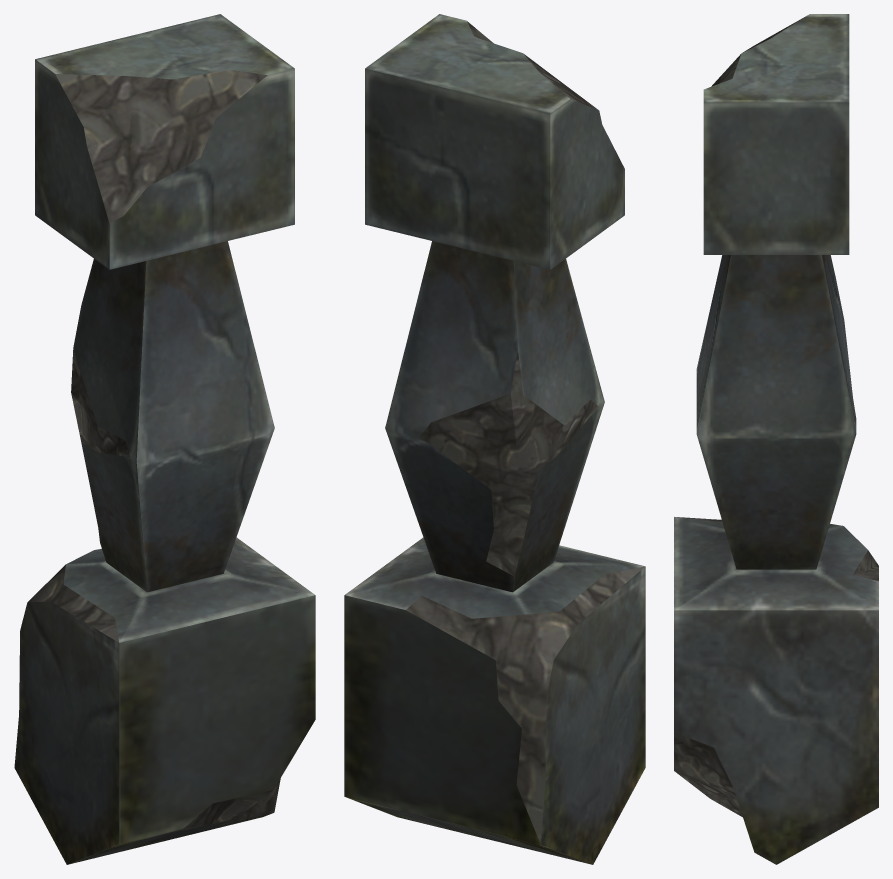
Rendered from F_fushou005.fbx.
The picture shows the model from 3 angles, left to right: view 1: azimuth 30°, elevation 25°; view 2: azimuth 150°, elevation 25°; view 3: azimuth 270°, elevation 25°; orthographic projection. The views are drawn at different scales.
Parts seen in each view (by area): view 1: F_fushou005; view 2: F_fushou005; view 3: F_fushou005.
Part boxes in pixels (x1,y1,x2,y2): F_fushou005: (14,14,315,864); F_fushou005: (344,14,645,864); F_fushou005: (674,14,878,864).
Bounding box in the file's own units: 37.26 × 141 × 34.46.
